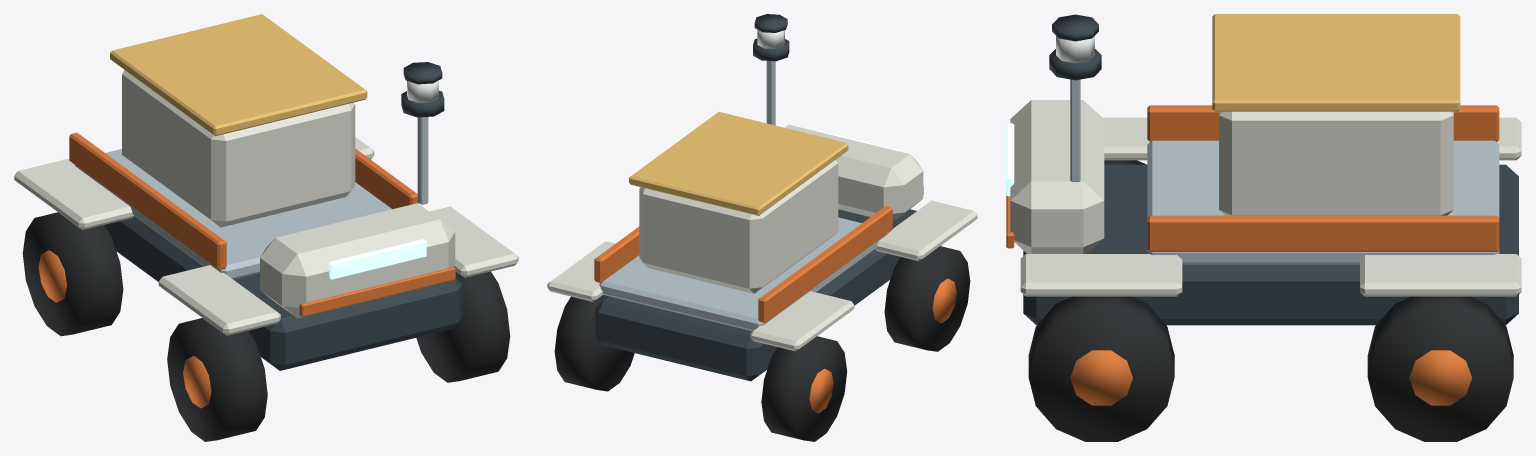
The model's file is hauler.glb.
3 views of the same model, side by side, from view 1: azimuth 30°, elevation 25°; view 2: azimuth 150°, elevation 25°; view 3: azimuth 270°, elevation 25° (orthographic). The views are drawn at different scales.
Visible parts, largest first — view 1: Cargo, hauler_ivory, hauler_dark, hauler_orange, Wheel_LB, Wheel_LF, hauler_metal, Wheel_RF, hauler_cyan, Lamp.006; view 2: Cargo, hauler_ivory, hauler_dark, hauler_metal, hauler_orange, Wheel_LF, Wheel_LB, Wheel_RB, Lamp.006; view 3: Cargo, hauler_ivory, hauler_orange, hauler_dark, Wheel_RF, Wheel_RB, hauler_metal, Lamp.006, hauler_cyan.
Part boxes in pixels (<box>): Cargo: <box>110,14,367,227</box>; hauler_ivory: <box>14,137,518,335</box>; hauler_dark: <box>104,62,462,370</box>; hauler_orange: <box>38,132,455,408</box>; Wheel_LB: <box>22,212,123,336</box>; Wheel_LF: <box>167,318,267,441</box>; hauler_metal: <box>75,117,428,279</box>; Wheel_RF: <box>416,271,510,382</box>; hauler_cyan: <box>328,239,426,279</box>; Lamp.006: <box>407,80,438,102</box>; Cargo: <box>629,112,848,293</box>; hauler_ivory: <box>547,124,977,351</box>; hauler_dark: <box>595,14,916,381</box>; hauler_metal: <box>599,61,887,331</box>; hauler_orange: <box>594,186,956,413</box>; Wheel_LF: <box>884,246,970,351</box>; Wheel_LB: <box>761,336,847,441</box>; Wheel_RB: <box>554,295,634,391</box>; Lamp.006: <box>757,29,784,48</box>; Cargo: <box>1212,14,1460,215</box>; hauler_ivory: <box>1010,100,1521,296</box>; hauler_orange: <box>1006,105,1499,405</box>; hauler_dark: <box>1023,14,1518,325</box>; Wheel_RF: <box>1028,296,1174,441</box>; Wheel_RB: <box>1367,296,1513,441</box>; hauler_metal: <box>1070,79,1499,264</box>; Lamp.006: <box>1056,36,1094,63</box>; hauler_cyan: <box>1006,123,1014,196</box>.
Bounding box in the file's own units: 1.54 × 1.6 × 1.97.
